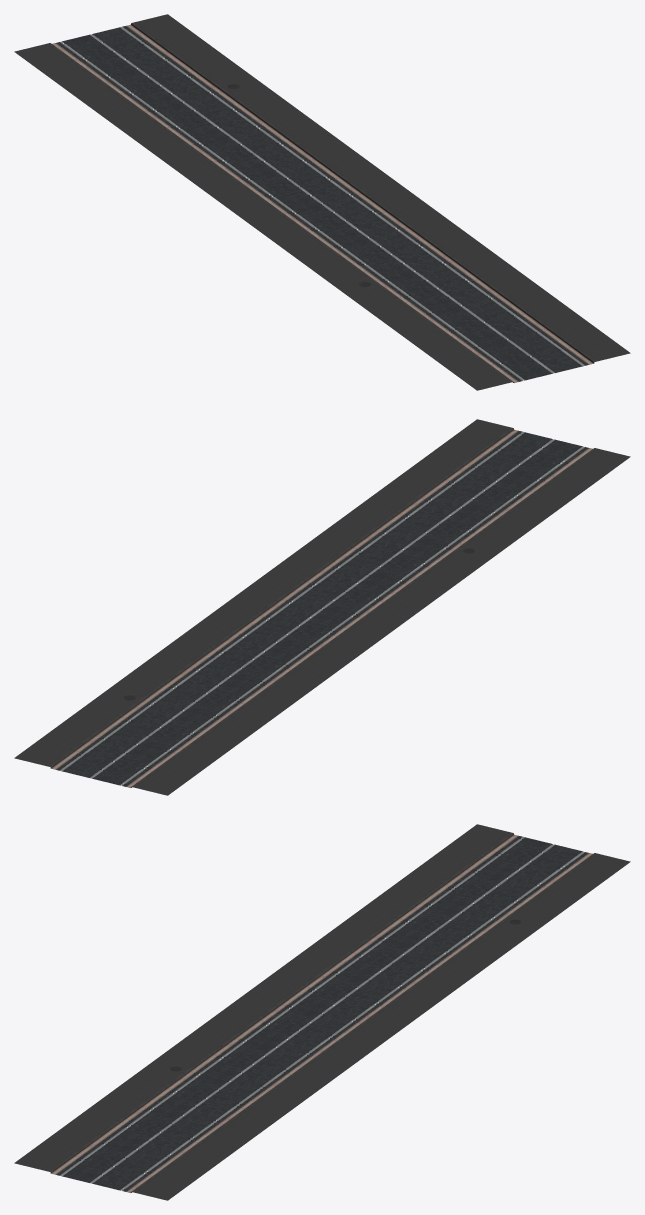
File: or_city_road_cont_marking.fbx
3 renders of one model, top to bottom at view 1: azimuth 30°, elevation 25°; view 2: azimuth 150°, elevation 25°; view 3: azimuth 330°, elevation 25°, orthographic.
Parts seen in each view (by area): view 1: obj0; view 2: obj0; view 3: obj0.
Boxes of the visible parts, bbox=[...] form: obj0: bbox=[14, 14, 630, 390]; obj0: bbox=[14, 419, 630, 795]; obj0: bbox=[14, 824, 630, 1200].
Size of the model in its own units: 29.21 by 0.254 by 152.
